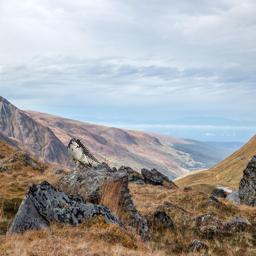Swallow: (66, 137, 105, 169)
